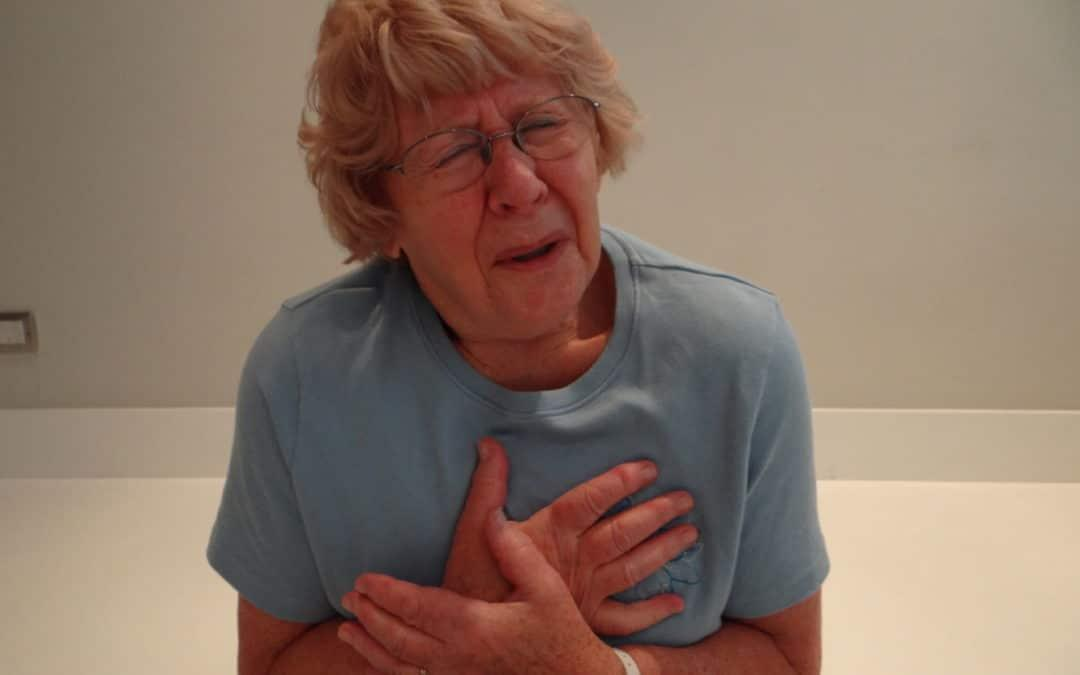pain: (386, 90, 606, 190)
